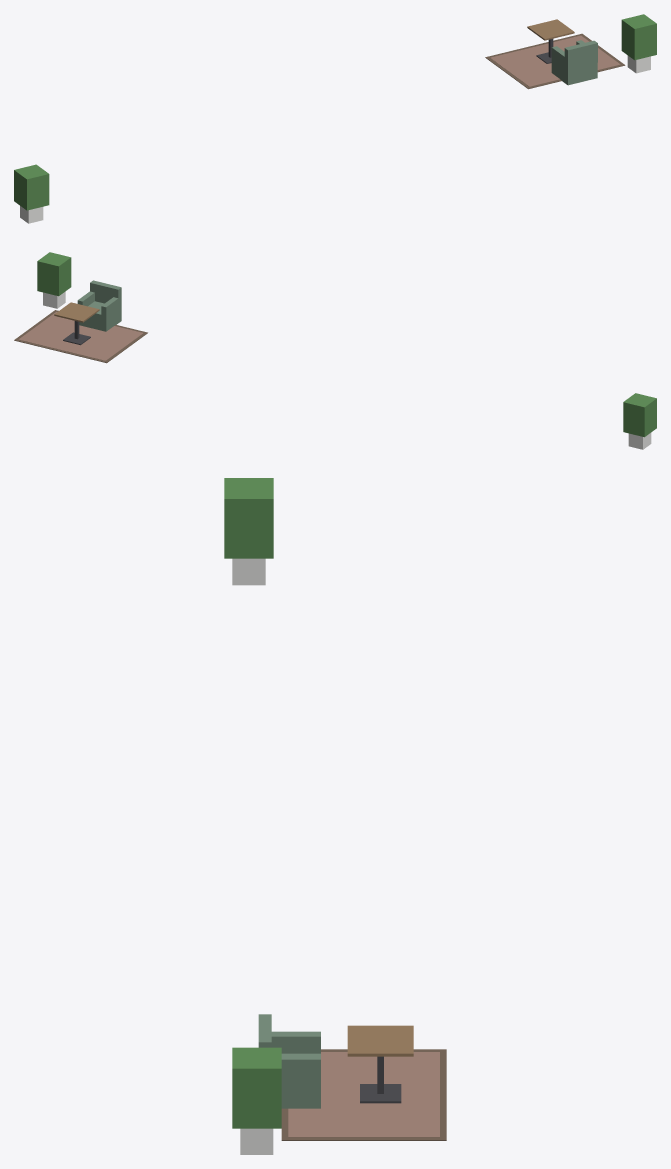
File: fine-s2.glb
The picture shows the model from 3 angles, top to bottom: view 1: azimuth 30°, elevation 25°; view 2: azimuth 150°, elevation 25°; view 3: azimuth 270°, elevation 25°; orthographic projection. The views are drawn at different scales.
Parts seen in each view (by area): view 1: soft-s2, plant-medium.002, plant-medium.003, sofa.001, coffee-table.001; view 2: soft-s2, plant-medium.002, plant-medium.003, sofa.001, coffee-table.001; view 3: soft-s2, plant-medium.002, plant-medium.003, sofa.001, coffee-table.001.
Boxes of the visible parts, x1,y1,x2,y2 form: soft-s2: (485,33,625,89); plant-medium.002: (621,14,656,73); plant-medium.003: (14,164,49,223); sofa.001: (551,40,597,85); coffee-table.001: (527,19,574,63); soft-s2: (14,310,147,363); plant-medium.002: (37,252,71,308); plant-medium.003: (623,393,656,449); sofa.001: (77,280,121,331); coffee-table.001: (54,302,99,345); soft-s2: (281,1049,446,1140); plant-medium.002: (232,1047,281,1154); plant-medium.003: (224,478,273,585); sofa.001: (258,1014,320,1108); coffee-table.001: (347,1025,413,1103).
Size of the model in its own units: 16.94 by 1.2 by 2.7.
